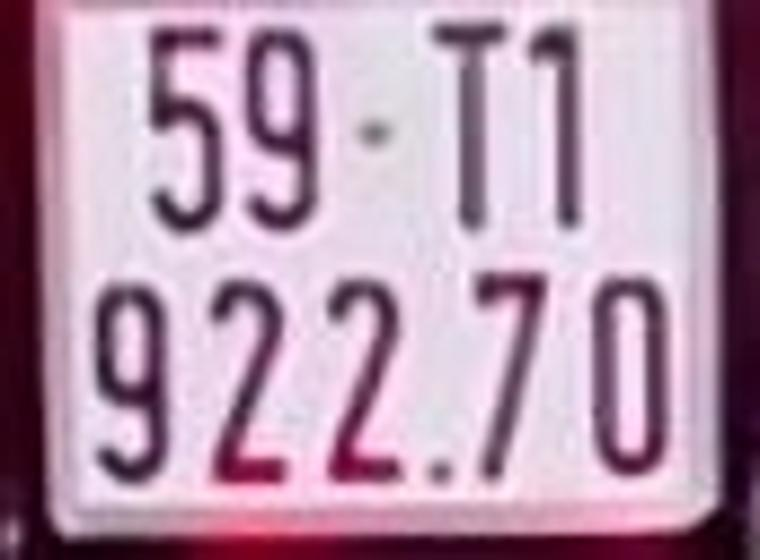-: (352, 120, 394, 150)
.: (419, 454, 454, 495)
0: (588, 269, 669, 470)
1: (523, 20, 590, 230)
2: (206, 269, 294, 484), (314, 278, 401, 481)
5: (150, 25, 229, 235)
7: (467, 260, 550, 485)
9: (90, 278, 173, 482), (244, 25, 321, 231)
T: (426, 10, 518, 230)
